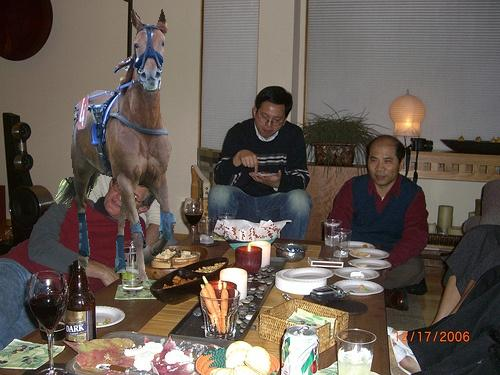tampered: (55, 10, 176, 281)
